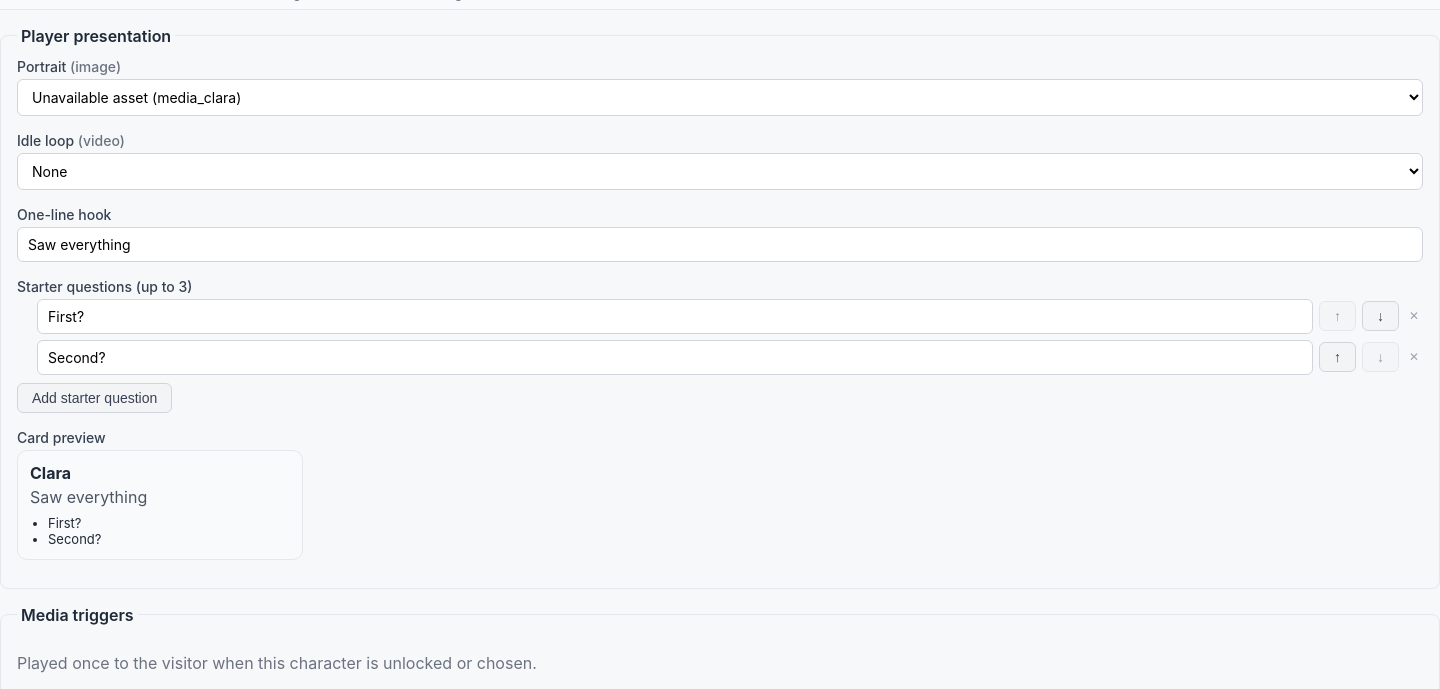
Test: avatar player presentation › adds up to three starter questions, then disables adding
(page scrolled)
Click the button "Add starter question". click: coordinates (95, 398)
box: [17,383,172,413]
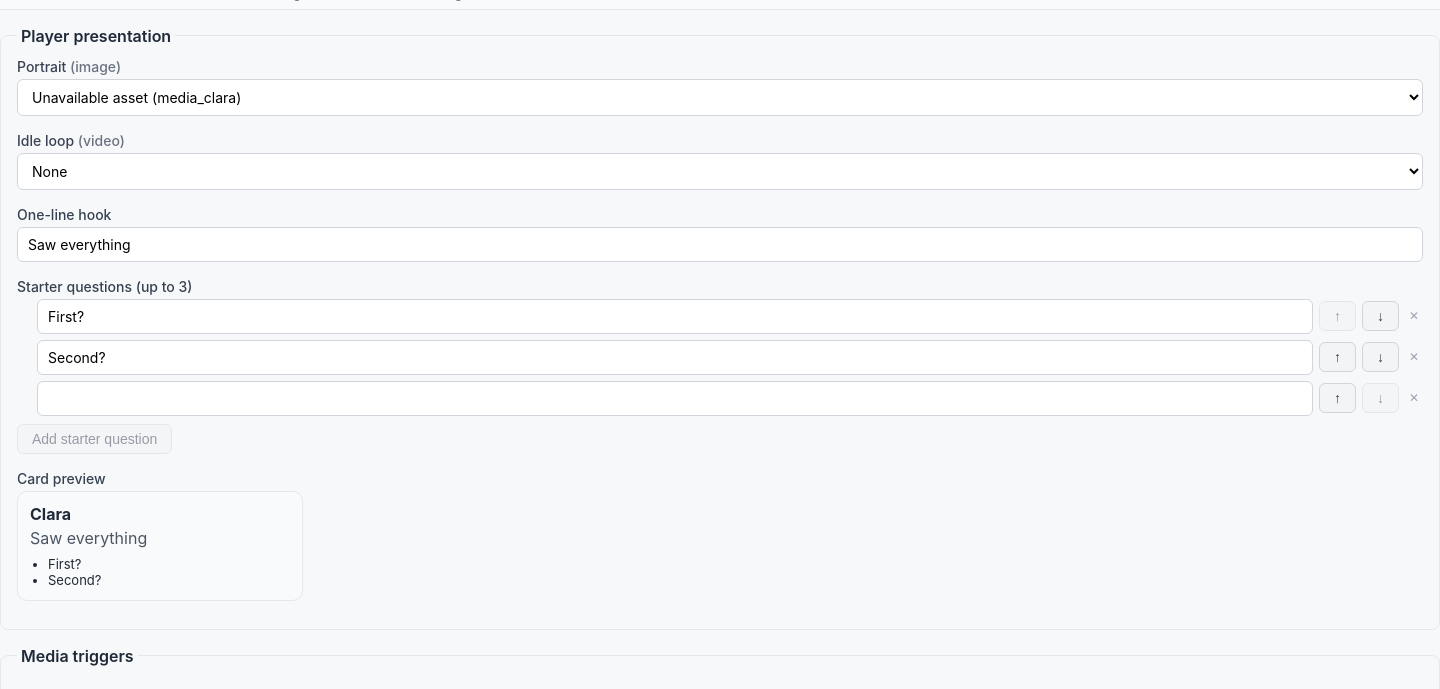
Type "Third?" into the field named "Starter question 3". click: coordinates (675, 398)
box: [37,381,1313,416]
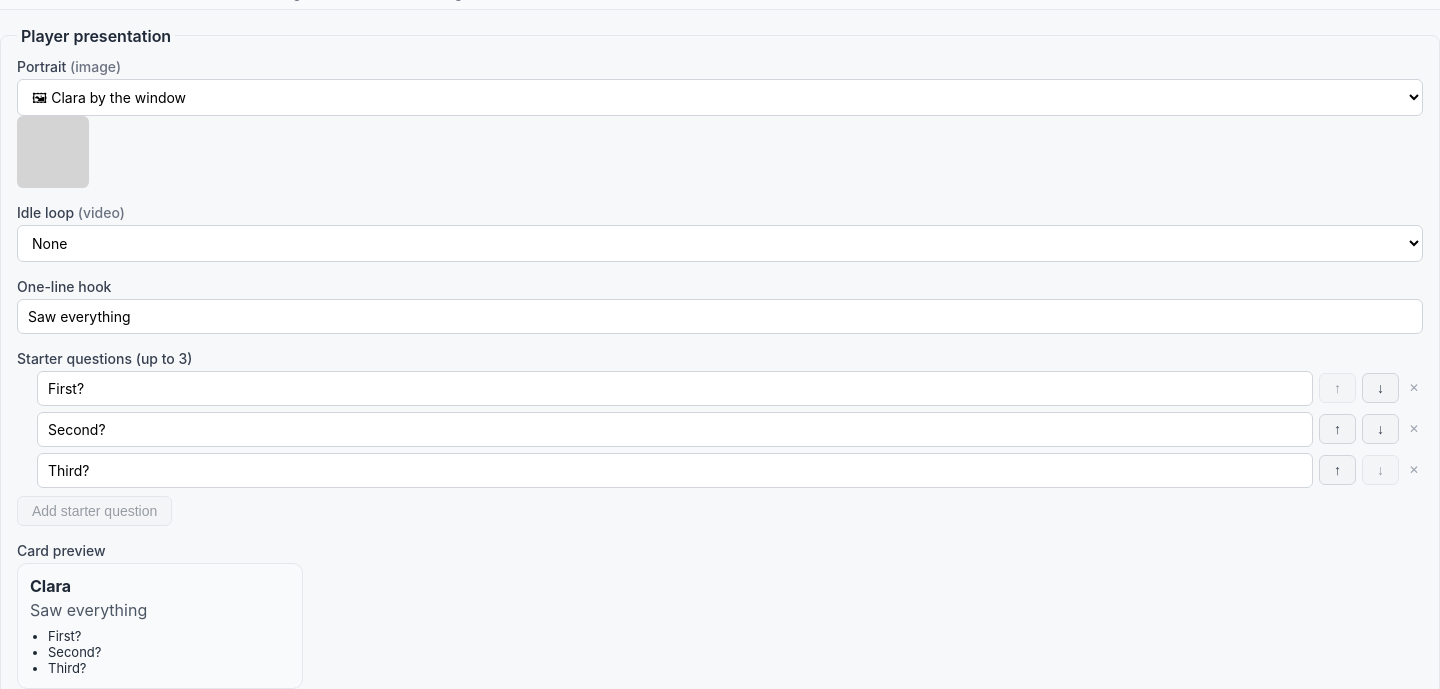
Now the button "Add starter question" is disabled, box [17,496,172,526]
Now the element named "Character card preview" shows "Third?", box [48,660,86,676]
